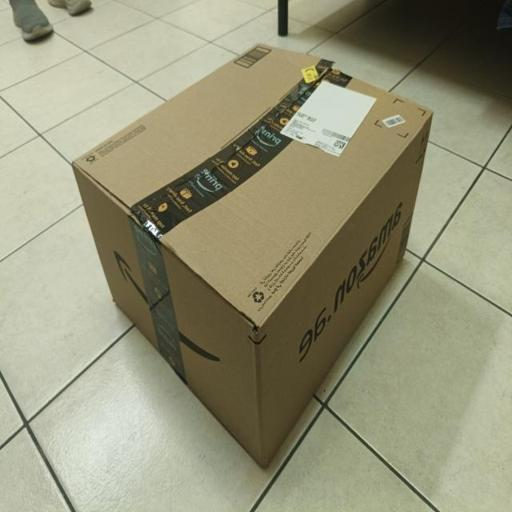Amazon: (71, 41, 441, 475)
